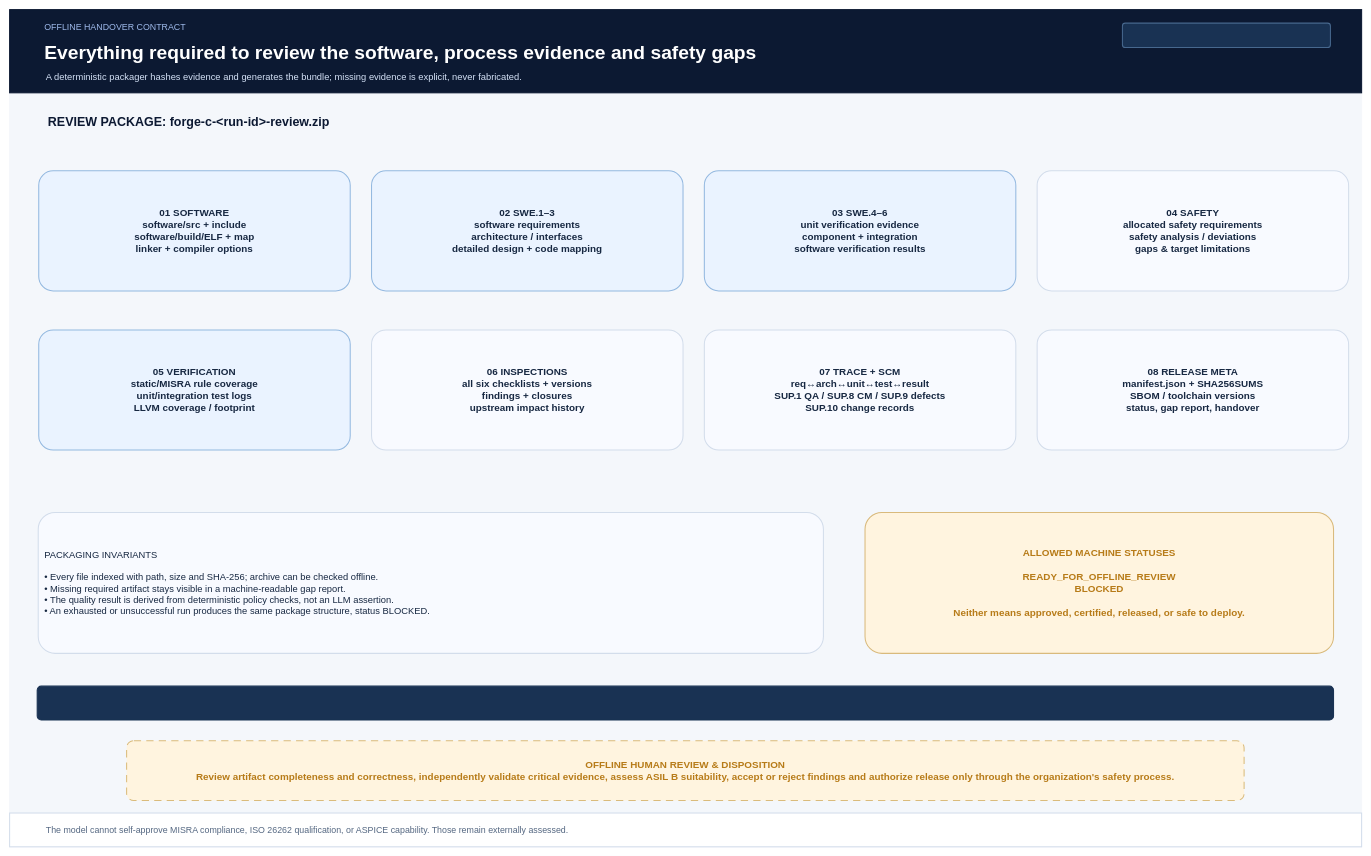
The diagram is 1371 pixels wide and 856 high, and some of its shapes have lost their labels. The shapes that lost their labels are listed below. From the top down, each one's box as (x1, y1, x2, y2) in pixels, then its label:
(1122, 22, 1331, 48): AUTONOMOUS OUTPUT
(36, 685, 1334, 720): DARK FACTORY BOUNDARY: archive generation and integrity checks complete
